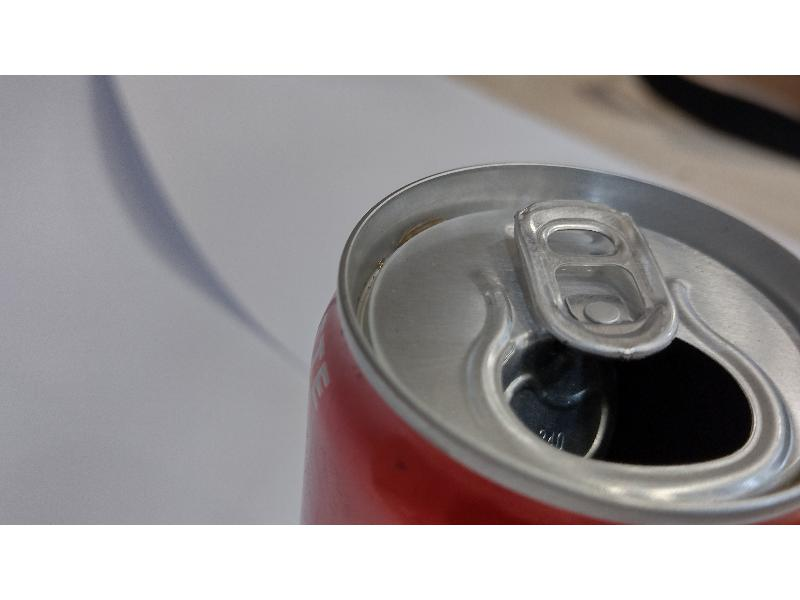can: (296, 143, 800, 526)
